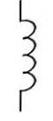inductor: (12, 15, 39, 96)
